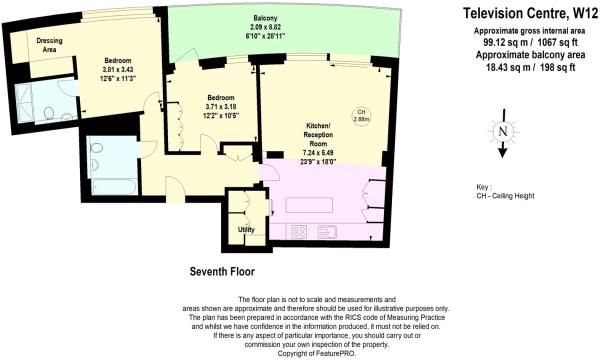GardenMeasurements: (240, 9, 290, 45)
GrossArea: (472, 25, 590, 47)
